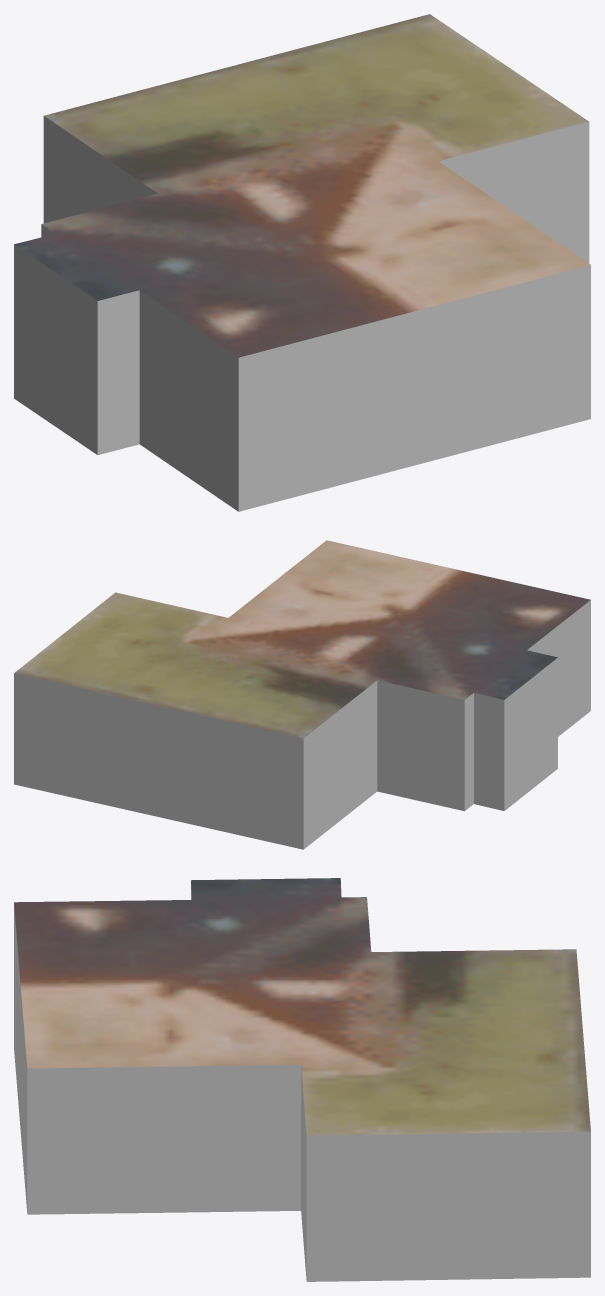
The model's file is DEBW_0010007Txeu.gltf.
3 renders of one model, top to bottom at view 1: azimuth 30°, elevation 25°; view 2: azimuth 150°, elevation 25°; view 3: azimuth 270°, elevation 25°, orthographic. The views are drawn at different scales.
Parts seen in each view (by area): view 1: Z_UP; view 2: Z_UP; view 3: Z_UP.
Boxes of the visible parts, x1,y1,x2,y2 form: Z_UP: (14,14,590,511); Z_UP: (14,540,590,849); Z_UP: (14,878,590,1281).
Size of the model in its own units: 15.55 by 4.11 by 14.71.
Materials: 2 (1 with a texture image).
